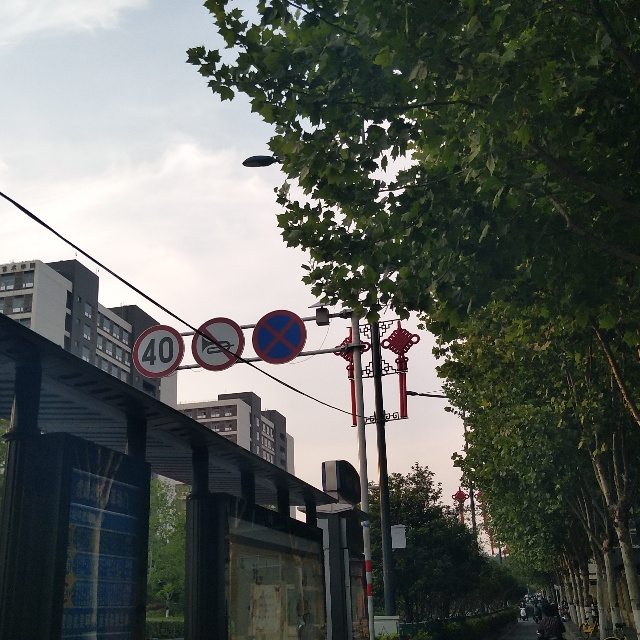nohonk: (195, 327, 236, 369)
stop: (259, 314, 301, 361)
